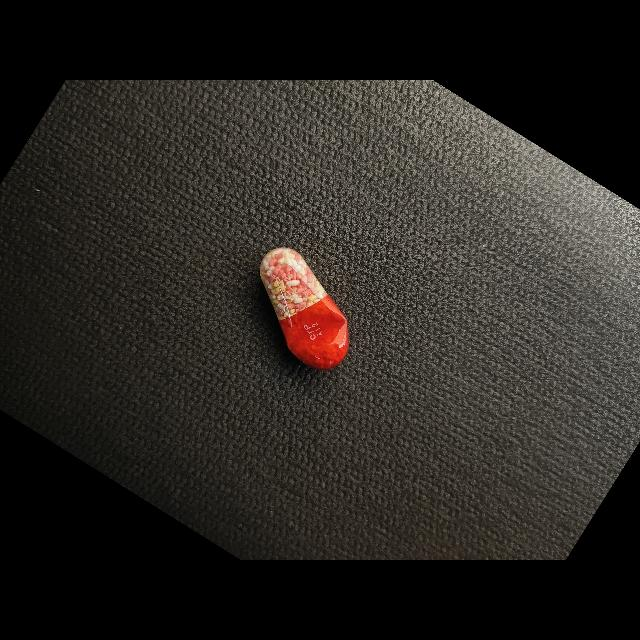Defective Capsule: (260, 247, 350, 369)
